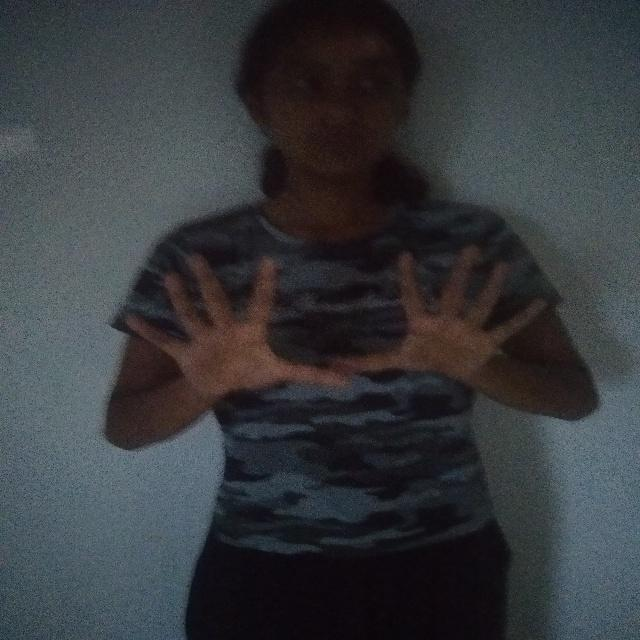Moutza: (125, 252, 351, 409), (330, 237, 558, 386)
